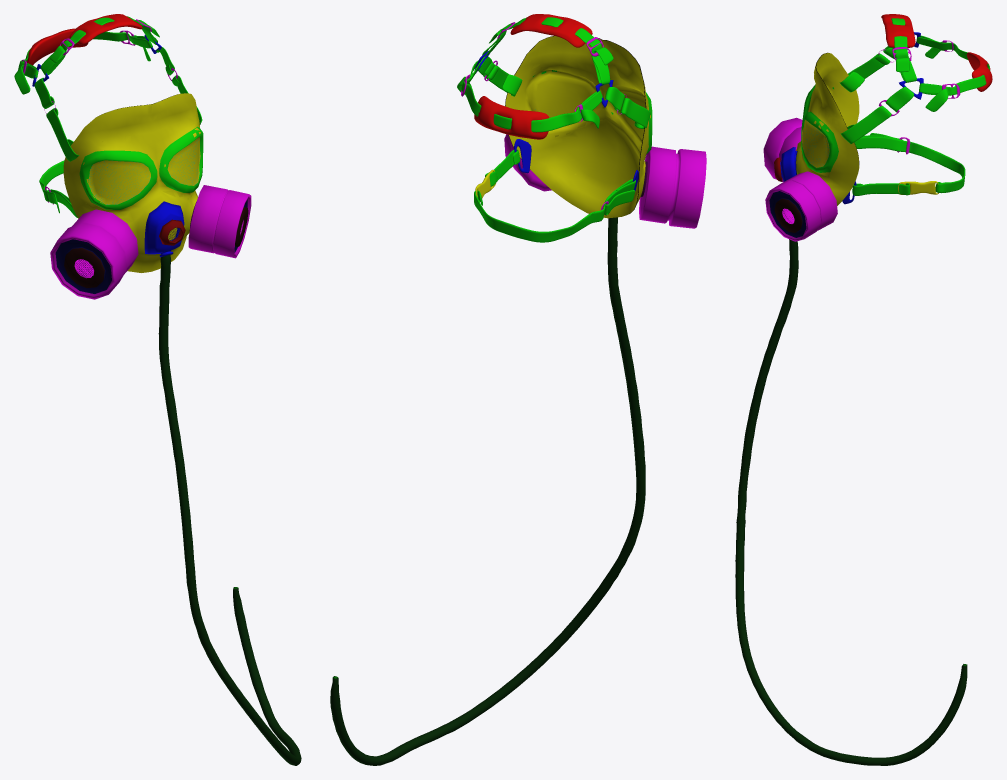
File: Gas_Mask.fbx
3 views of the same model, side by side, from view 1: azimuth 30°, elevation 25°; view 2: azimuth 150°, elevation 25°; view 3: azimuth 270°, elevation 25° (orthographic). The views are drawn at different scales.
Parts seen in each view (by area): view 1: Mask_LOW.001, MaskStrap_LOW.001; view 2: Mask_LOW.001, MaskStrap_LOW.001; view 3: Mask_LOW.001, MaskStrap_LOW.001.
Part boxes in pixels (x1,y1,x2,y2): Mask_LOW.001: [50, 93, 301, 765]; MaskStrap_LOW.001: [14, 14, 202, 217]; Mask_LOW.001: [330, 36, 706, 765]; MaskStrap_LOW.001: [457, 14, 650, 242]; Mask_LOW.001: [735, 52, 967, 765]; MaskStrap_LOW.001: [839, 14, 992, 204].
Bounding box in the file's own units: 35.48 × 92.68 × 32.07.
